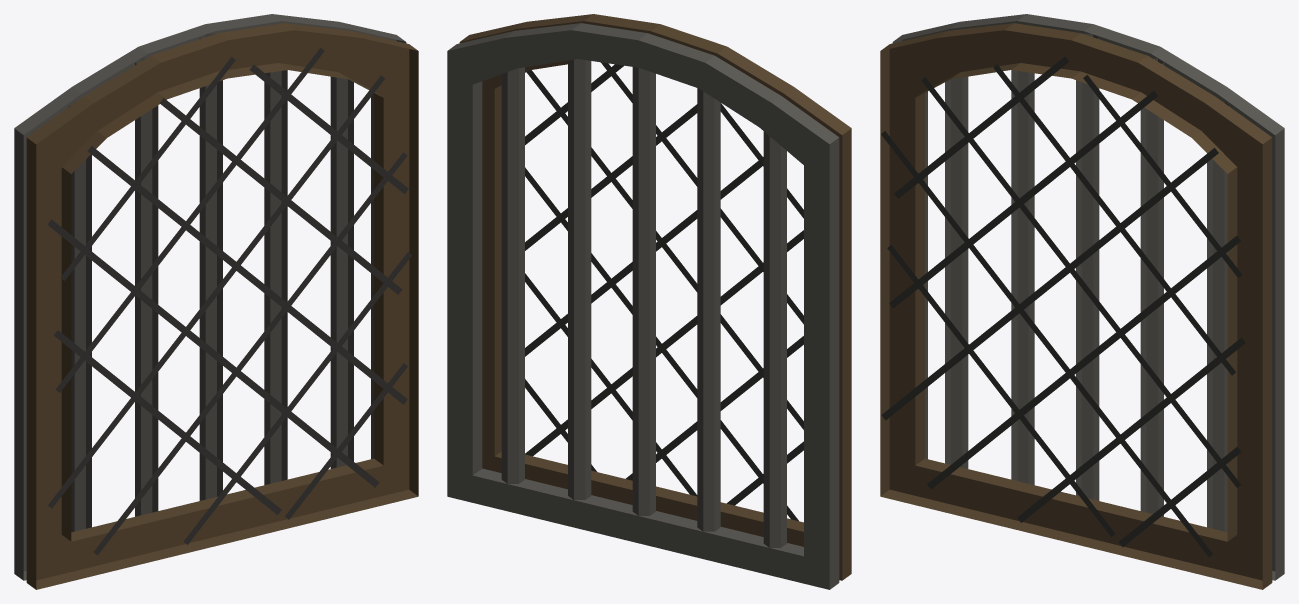
The model's file is Guards_room_window.fbx.
The picture shows the model from 3 angles, left to right: view 1: azimuth 30°, elevation 25°; view 2: azimuth 150°, elevation 25°; view 3: azimuth 330°, elevation 25°; orthographic projection.
Parts seen in each view (by area): view 1: jail_window.005; view 2: jail_window.005; view 3: jail_window.005.
Part boxes in pixels (box(x1,y1,x2,y2)): jail_window.005: box(14, 14, 418, 589); jail_window.005: box(447, 14, 851, 589); jail_window.005: box(880, 14, 1284, 589).
Size of the model in its own units: 108 by 136 by 13.34.
